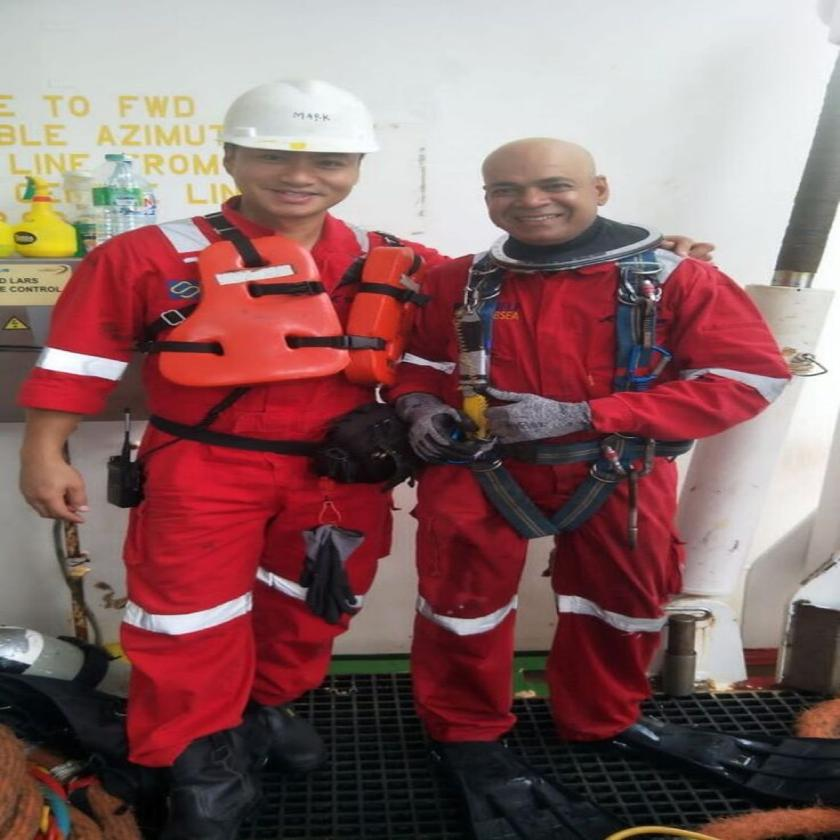Con_casco: (221, 76, 390, 233)
Sin_casco: (472, 131, 621, 258)
